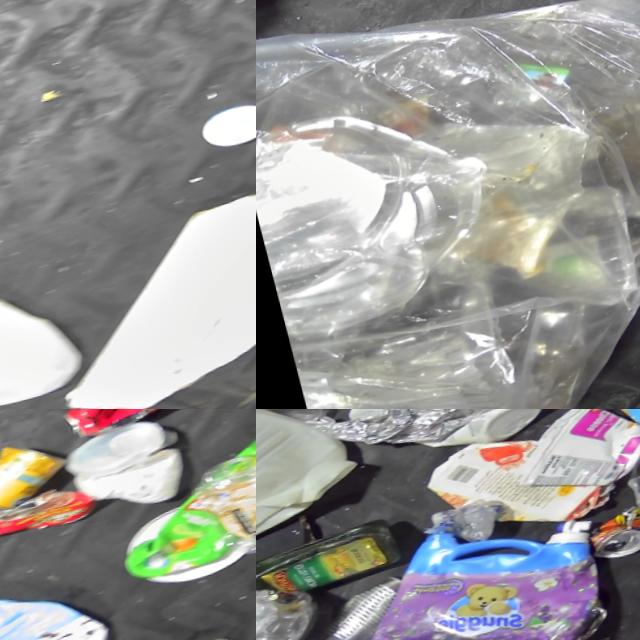can: (286, 574, 416, 640), (0, 435, 73, 526), (53, 409, 186, 449), (579, 505, 640, 573)
milk_jug: (256, 409, 373, 567), (0, 269, 85, 409), (0, 569, 111, 640)
non_white_jug: (339, 495, 616, 640)
plastic_bottle: (618, 454, 640, 536)
